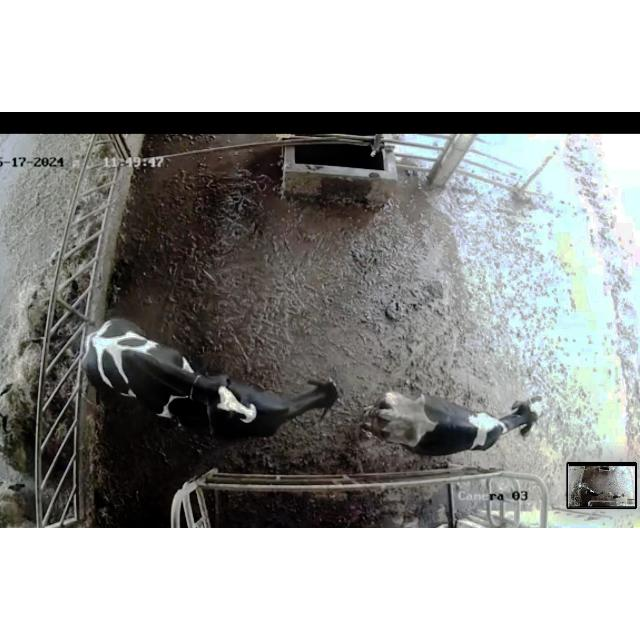ride: (72, 308, 262, 439)
stand: (352, 371, 550, 465), (202, 362, 338, 446)
